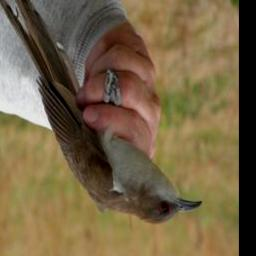Cuckoo: (0, 0, 203, 226)
